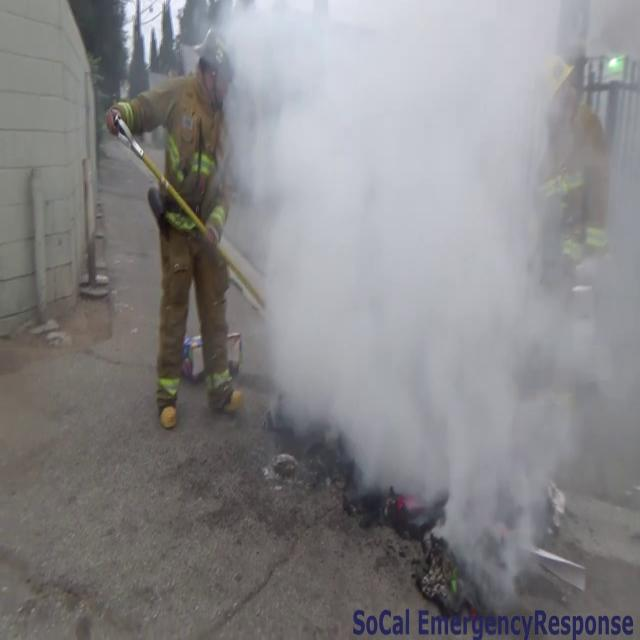Smoke: (206, 1, 640, 556)
